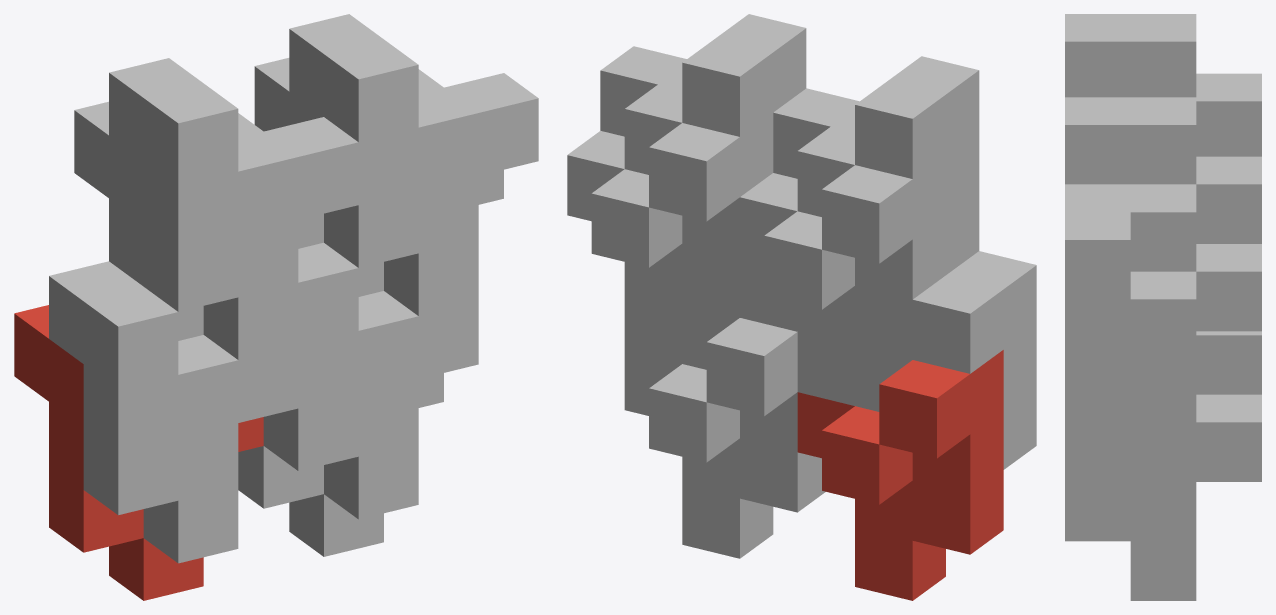
The model's file is tiling.obj.
3 renders of one model, left to right at view 1: azimuth 30°, elevation 25°; view 2: azimuth 150°, elevation 25°; view 3: azimuth 270°, elevation 25°, orthographic. The views are drawn at different scales.
Visible parts, largest first — view 1: copy_1_domain_4, copy_1_domain_2, copy_1_domain_8, copy_1_domain_6, copy_1_domain_1, copy_1_domain_3, copy_1_domain_5, copy_1_domain_7; view 2: copy_1_domain_1, copy_1_domain_3, copy_1_domain_7, copy_1_domain_5, copy_1_domain_4, copy_1_domain_8, copy_1_domain_2, copy_1_domain_6; view 3: copy_1_domain_8, copy_1_domain_7, copy_1_domain_5, copy_1_domain_4, copy_1_domain_6, copy_1_domain_3.
Part boxes in pixels (x1,y1,x2,y2): copy_1_domain_4: [109, 58, 358, 359]; copy_1_domain_2: [49, 261, 298, 563]; copy_1_domain_8: [289, 14, 538, 315]; copy_1_domain_6: [263, 242, 478, 519]; copy_1_domain_1: [14, 305, 263, 600]; copy_1_domain_3: [74, 101, 323, 340]; copy_1_domain_5: [238, 373, 443, 556]; copy_1_domain_7: [254, 58, 503, 296]; copy_1_domain_1: [797, 350, 1003, 600]; copy_1_domain_3: [740, 155, 945, 405]; copy_1_domain_7: [567, 113, 773, 363]; copy_1_domain_5: [624, 318, 825, 558]; copy_1_domain_4: [773, 56, 979, 274]; copy_1_domain_8: [600, 14, 806, 174]; copy_1_domain_2: [855, 251, 1036, 469]; copy_1_domain_6: [682, 257, 797, 369]; copy_1_domain_8: [1065, 97, 1196, 390]; copy_1_domain_7: [1130, 156, 1261, 450]; copy_1_domain_5: [1130, 331, 1261, 600]; copy_1_domain_4: [1065, 14, 1196, 97]; copy_1_domain_6: [1065, 390, 1130, 541]; copy_1_domain_3: [1196, 73, 1261, 156].
Size of the model in its own units: 7 by 8 by 3.
